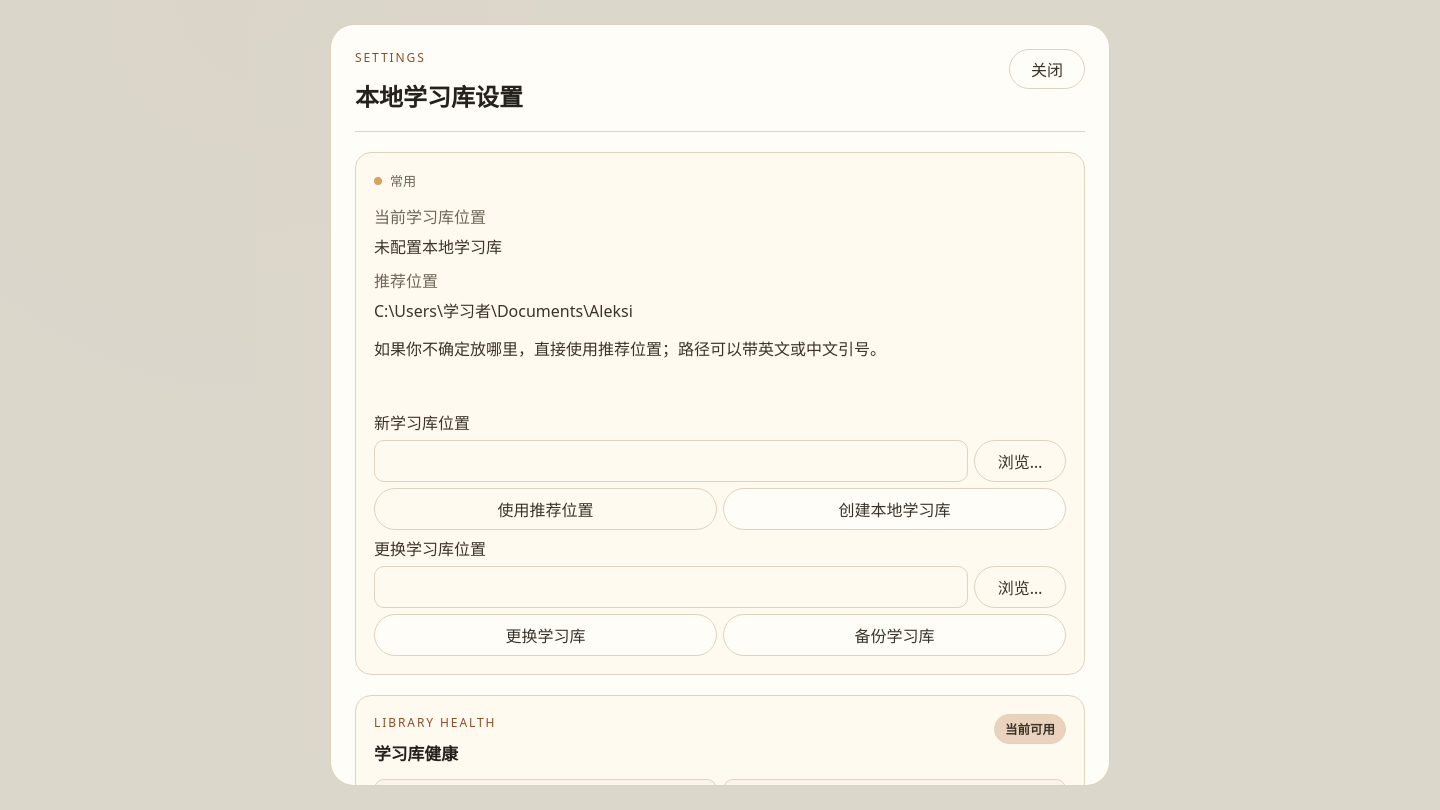
it: desktop interaction adapters › uses the native directory picker only to populate the validated settings path
Click the 1st button "浏览…": (1020, 461) [974,440,1066,482]
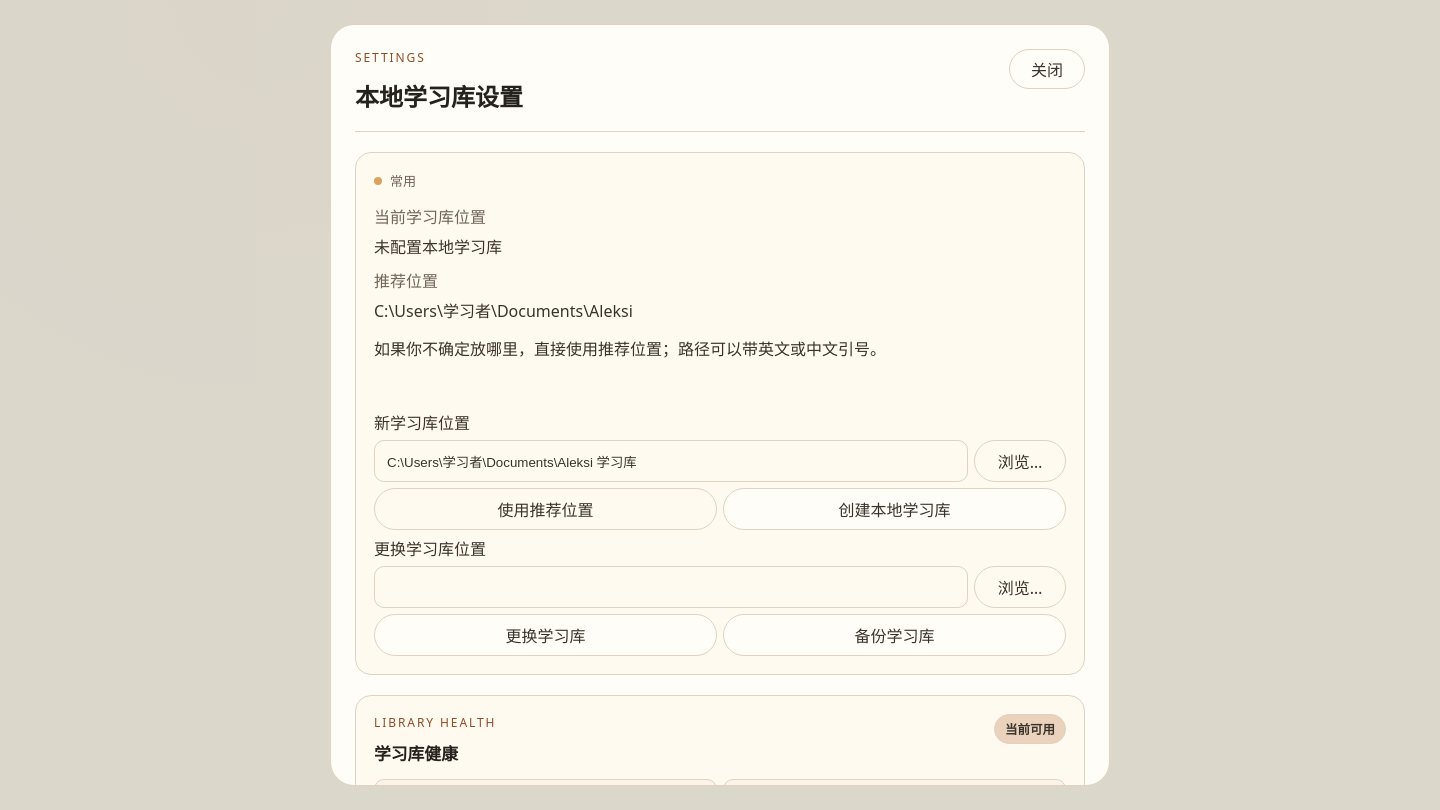
Check: the field labelled "新学习库位置" holds "C:\\Users\\学习者\\Documents\\Aleksi 学习库", box [374,440,968,482]
